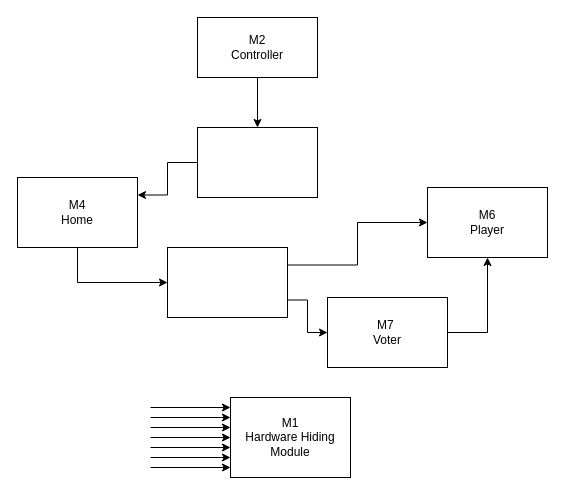
Some shapes in this 565 by 495 pixel diagram are drawn without their labels. The centre of each missing label's shape, as x and y in pixels:
"M3 Args" goes at [257,162].
"M5 Library" goes at [227,282].
